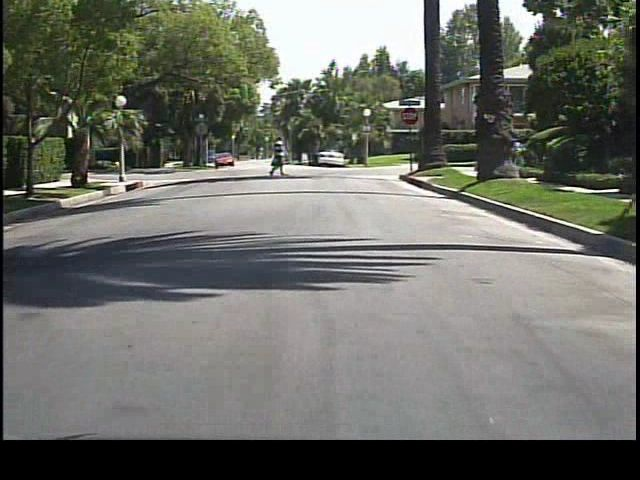person: (270, 136, 288, 175)
